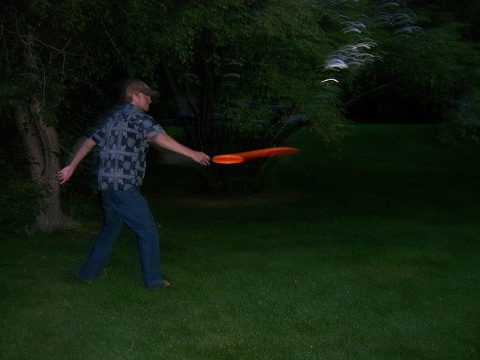hand: (56, 164, 77, 184), (190, 149, 211, 168)
